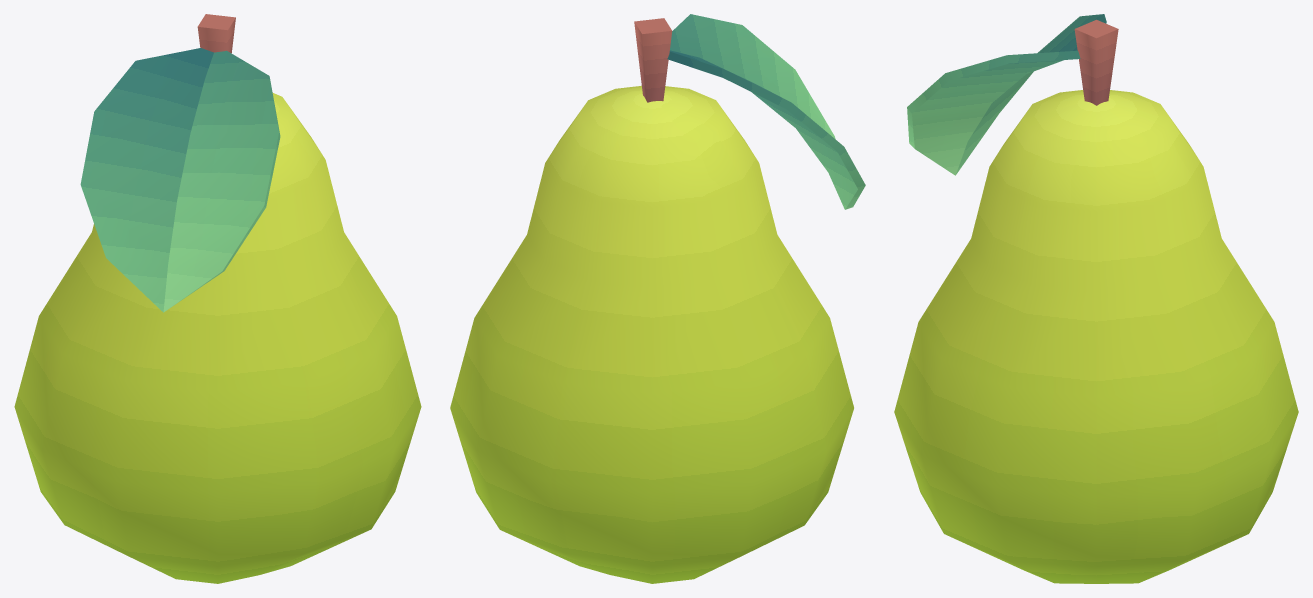
The model's file is pear.glb.
3 renders of one model, left to right at view 1: azimuth 30°, elevation 25°; view 2: azimuth 150°, elevation 25°; view 3: azimuth 270°, elevation 25°, orthographic.
Parts seen in each view (by area): view 1: mesh_pear_01 - Default.001_0; view 2: mesh_pear_01 - Default.001_0; view 3: mesh_pear_01 - Default.001_0.
Part boxes in pixels (x1,y1,x2,y2): mesh_pear_01 - Default.001_0: (14,14,421,583); mesh_pear_01 - Default.001_0: (450,14,865,583); mesh_pear_01 - Default.001_0: (894,14,1298,583).
Size of the model in its own units: 121 by 173 by 121.
1 material, 1 textured.
